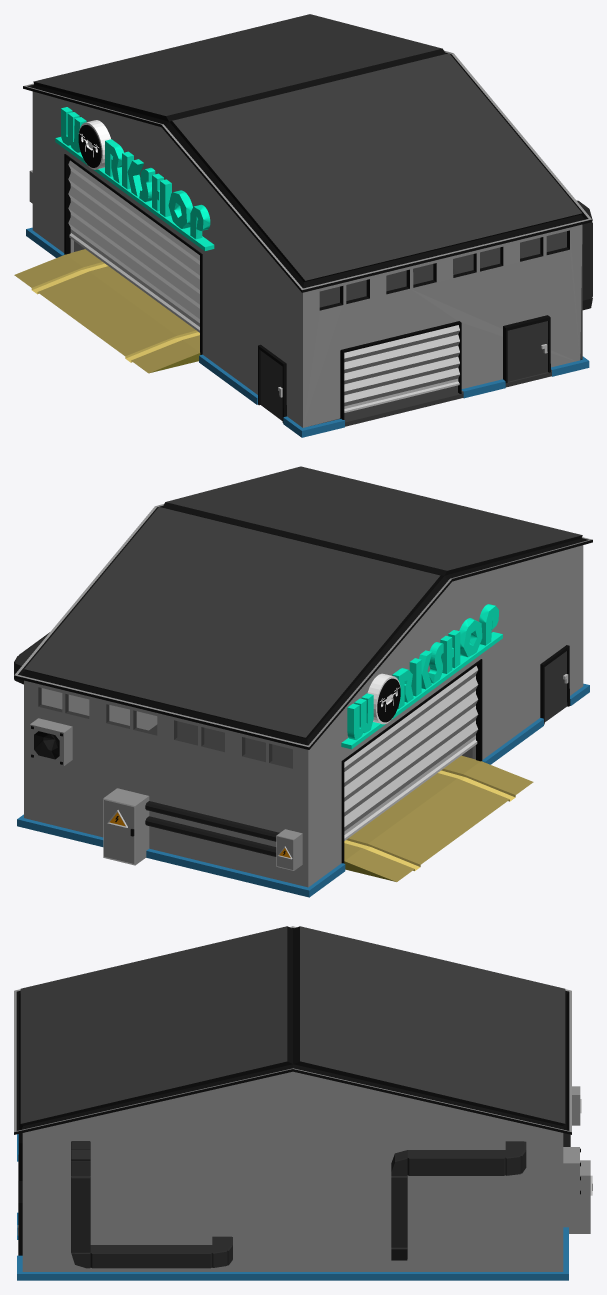
File: Workshop.FBX
3 renders of one model, top to bottom at view 1: azimuth 30°, elevation 25°; view 2: azimuth 150°, elevation 25°; view 3: azimuth 270°, elevation 25°, orthographic.
Parts seen in each view (by area): view 1: Workshop; view 2: Workshop; view 3: Workshop.
Boxes of the visible parts, left/top/right/bottom form: Workshop: left=14, top=14, right=592, bottom=437; Workshop: left=14, top=466, right=592, bottom=897; Workshop: left=14, top=926, right=592, bottom=1280.
Size of the model in its own units: 5926 by 3380 by 8088.
